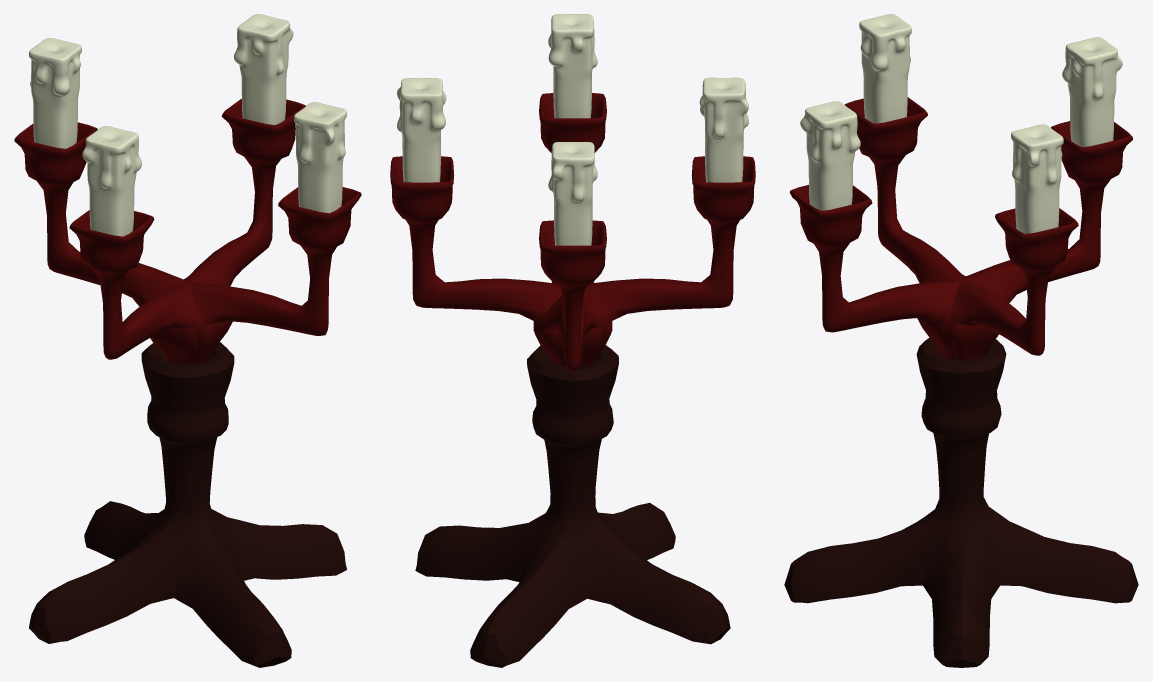
The model's file is candlestick.fbx.
3 renders of one model, left to right at view 1: azimuth 30°, elevation 25°; view 2: azimuth 150°, elevation 25°; view 3: azimuth 270°, elevation 25°, orthographic.
Parts seen in each view (by area): view 1: Cube, Cube.002, Cube.001, Cube.003; view 2: Cube, Cube.002, Cube.001, Cube.003; view 3: Cube, Cube.002, Cube.003, Cube.001.
Boxes of the visible parts, <box> form: Cube: <box>29,342,346,667</box>; Cube.002: <box>14,98,361,364</box>; Cube.001: <box>82,14,293,236</box>; Cube.003: <box>29,38,346,213</box>; Cube: <box>415,345,730,667</box>; Cube.002: <box>390,93,755,371</box>; Cube.001: <box>397,77,748,182</box>; Cube.003: <box>548,14,597,245</box>; Cube: <box>784,337,1138,667</box>; Cube.002: <box>790,97,1132,359</box>; Cube.003: <box>800,37,1122,210</box>; Cube.001: <box>859,14,1063,233</box>.
Size of the model in its own units: 62.28 by 100 by 62.28.
